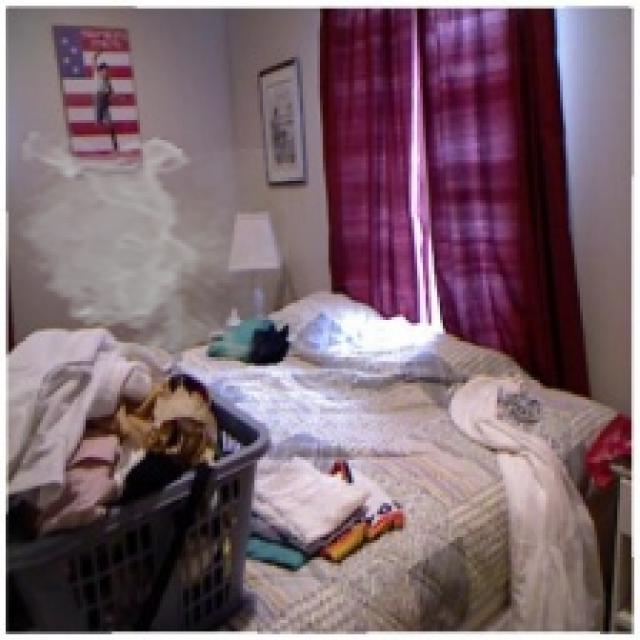smoke: (12, 132, 288, 372)
